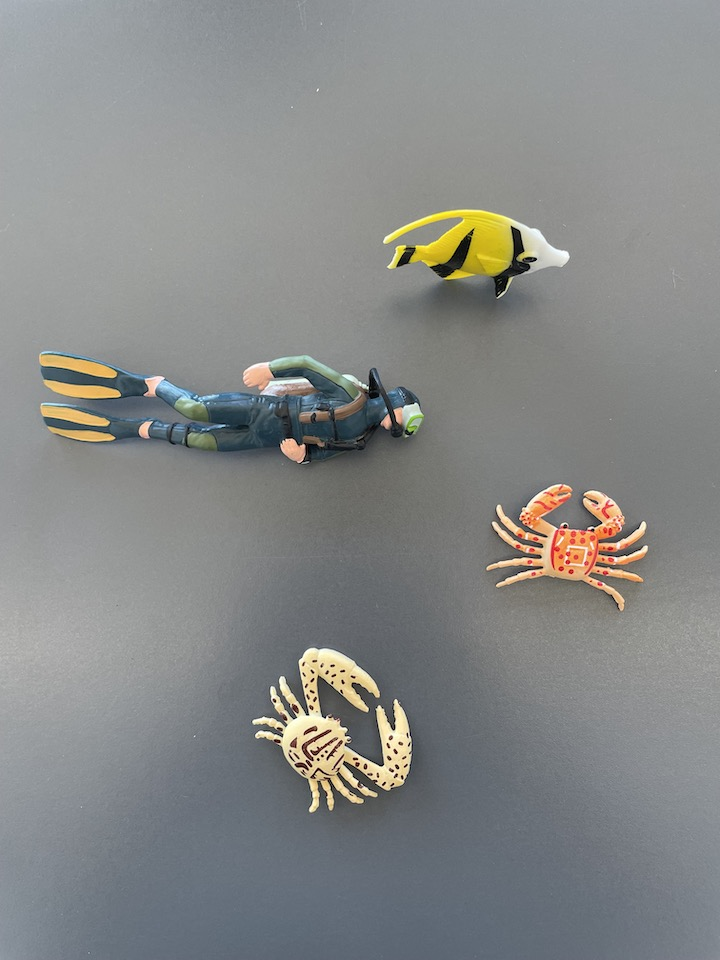crab: (251, 645, 419, 819), (483, 479, 649, 616)
danger: (380, 207, 574, 306)
diver: (34, 346, 432, 469)
